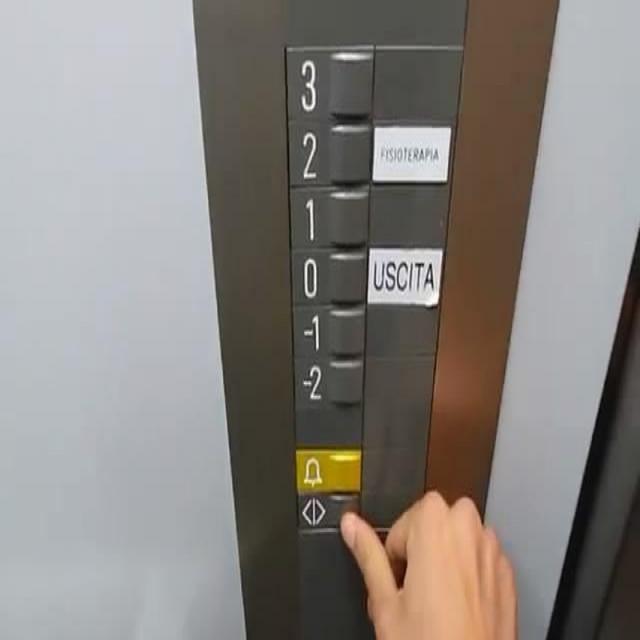-1: (288, 296, 369, 361)
-2: (290, 348, 368, 408)
0: (286, 240, 371, 311)
1: (285, 179, 372, 252)
2: (284, 110, 376, 190)
3: (281, 39, 376, 124)
alarm: (292, 441, 365, 499)
open: (294, 488, 363, 535)
